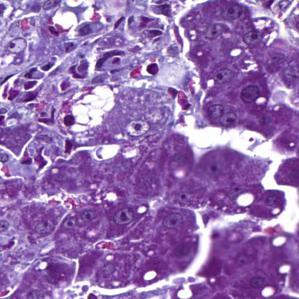ballooning: (58, 82, 118, 138)
